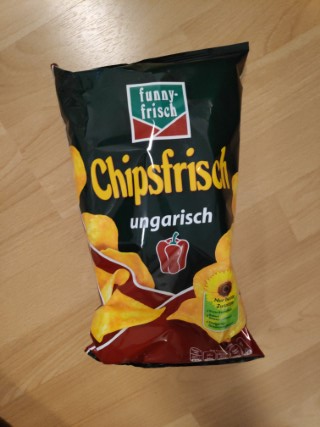chipsfrisch: (49, 40, 267, 368)
